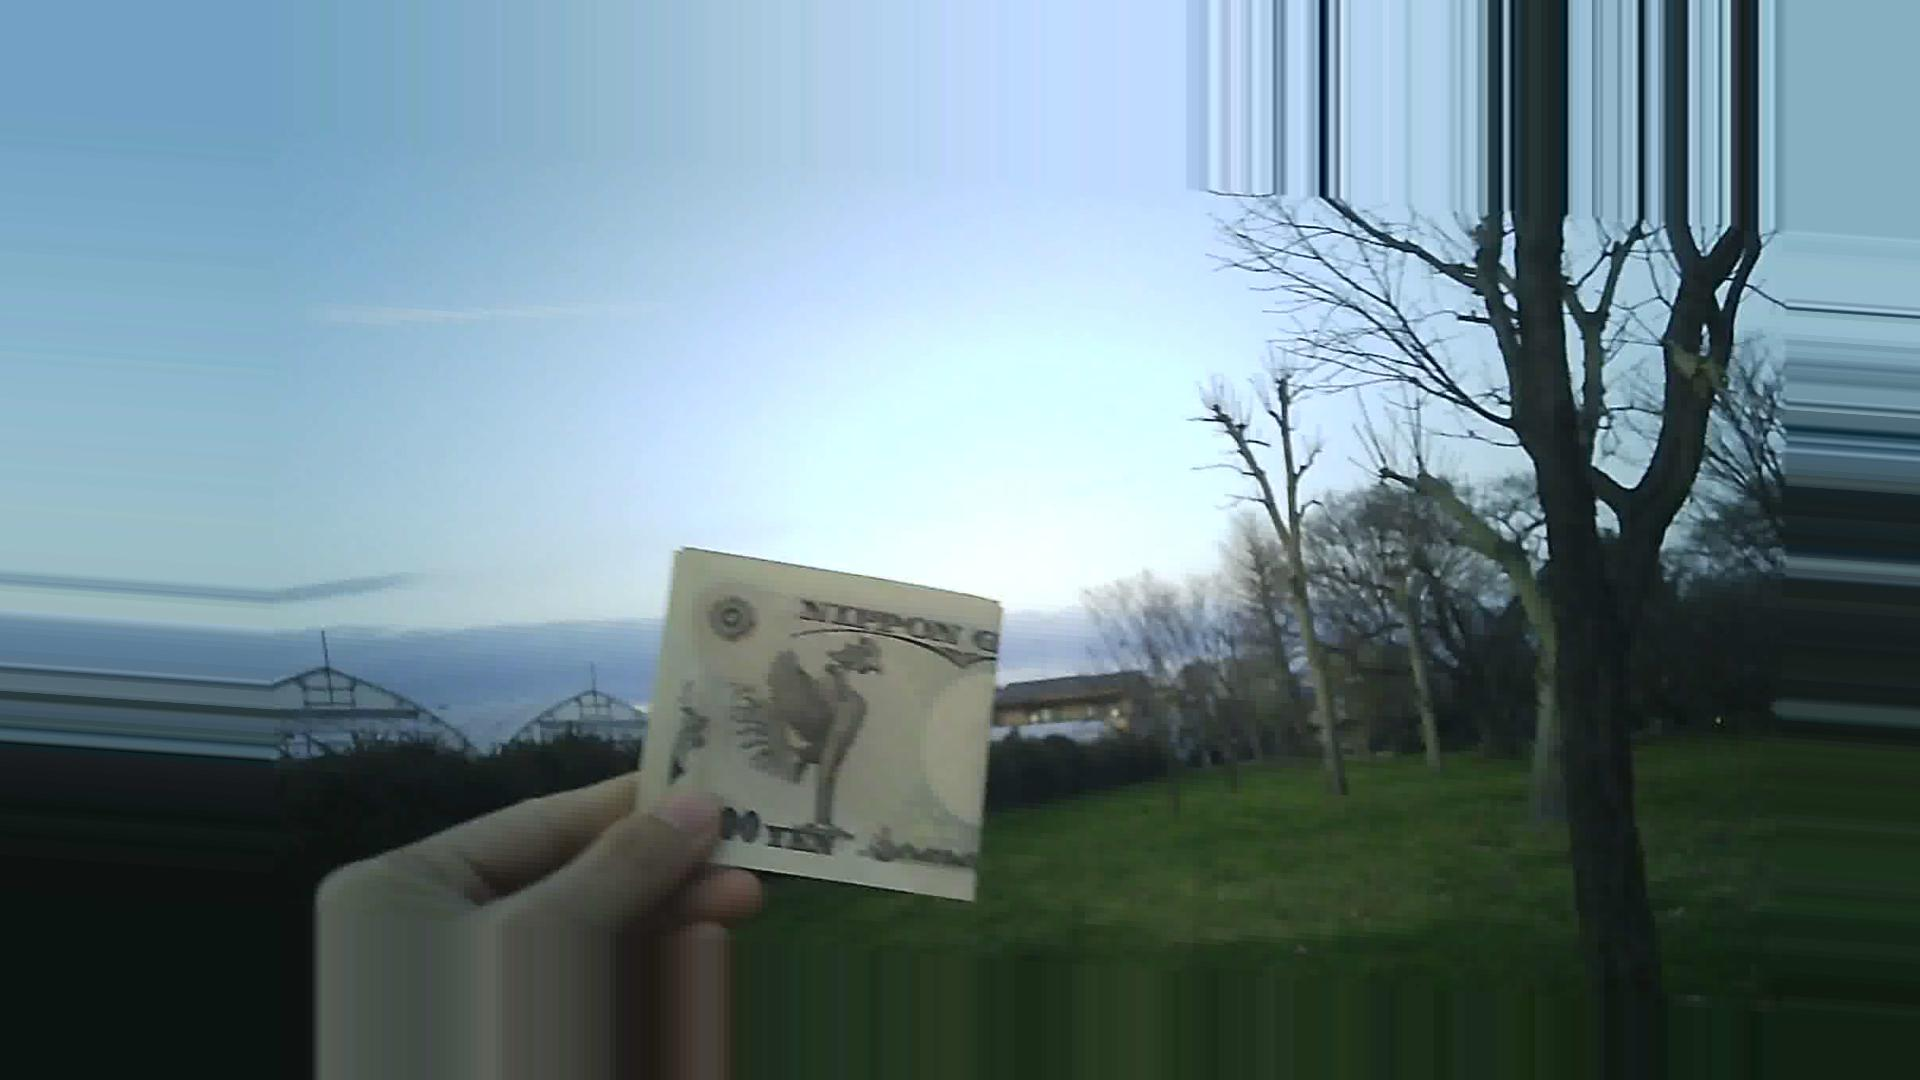10,000 Yen: (593, 543, 1033, 907)
